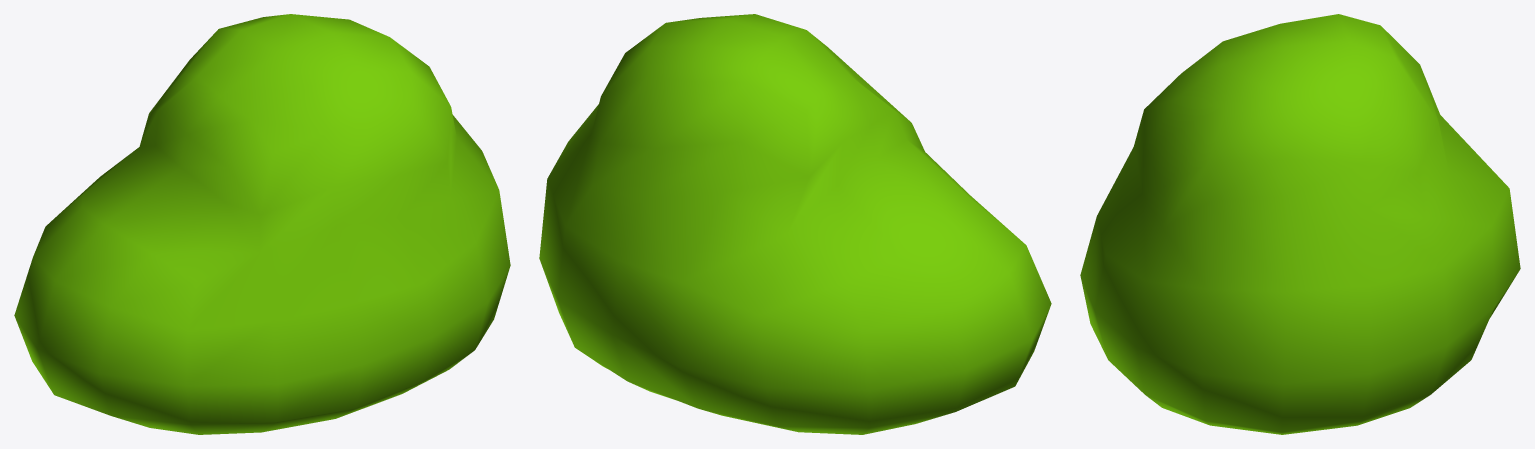
Rendered from Bush_12.fbx.
3 views of the same model, side by side, from view 1: azimuth 30°, elevation 25°; view 2: azimuth 150°, elevation 25°; view 3: azimuth 270°, elevation 25° (orthographic). The views are drawn at different scales.
Parts seen in each view (by area): view 1: Bush_12; view 2: Bush_12; view 3: Bush_12.
Boxes of the visible parts, x1=… form: Bush_12: x1=14, y1=14, x2=510, y2=434; Bush_12: x1=539, y1=14, x2=1051, y2=434; Bush_12: x1=1080, y1=14, x2=1520, y2=434.
Bounding box in the file's own units: 212 × 142 × 166.
